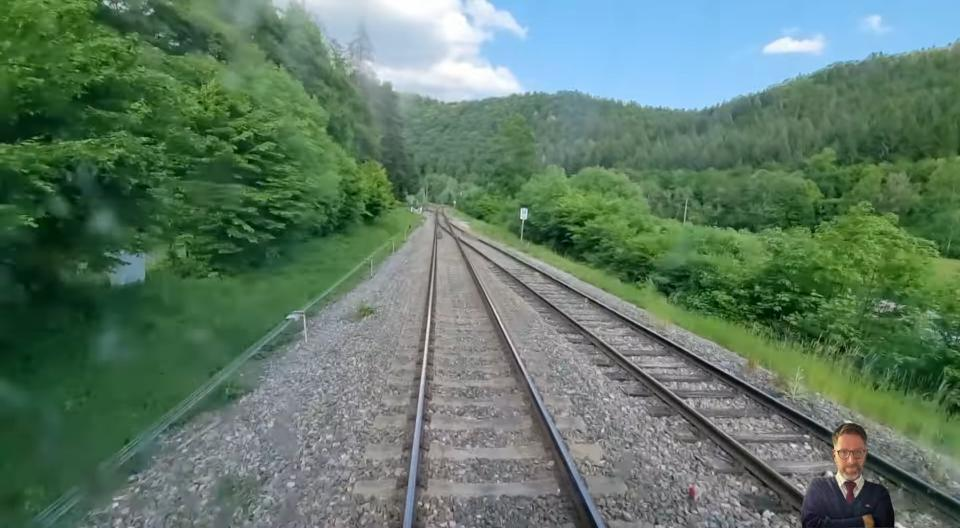Plant: (784, 367, 808, 396), (346, 304, 376, 321)
